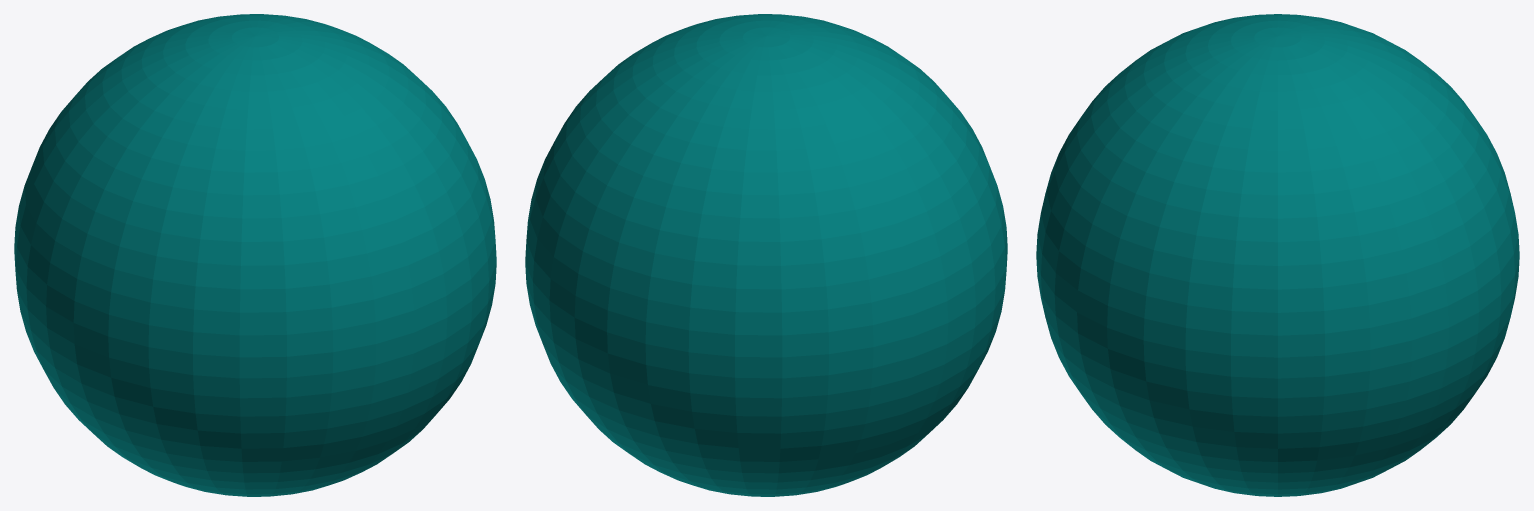
The model's file is toolSphere.obj.
3 views of the same model, side by side, from view 1: azimuth 30°, elevation 25°; view 2: azimuth 150°, elevation 25°; view 3: azimuth 270°, elevation 25° (orthographic).
Parts seen in each view (by area): view 1: Sphere; view 2: Sphere; view 3: Sphere.
Part boxes in pixels (bbox=[...]): Sphere: bbox=[14, 14, 496, 496]; Sphere: bbox=[525, 14, 1007, 496]; Sphere: bbox=[1036, 14, 1519, 496].
Bounding box in the file's own units: 0.08 × 0.08 × 0.08.
